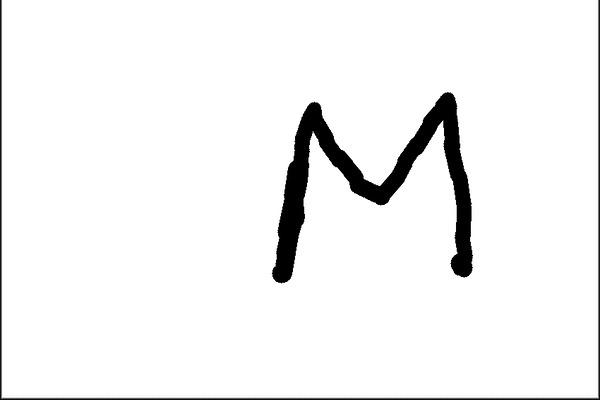M: (274, 90, 472, 282)
